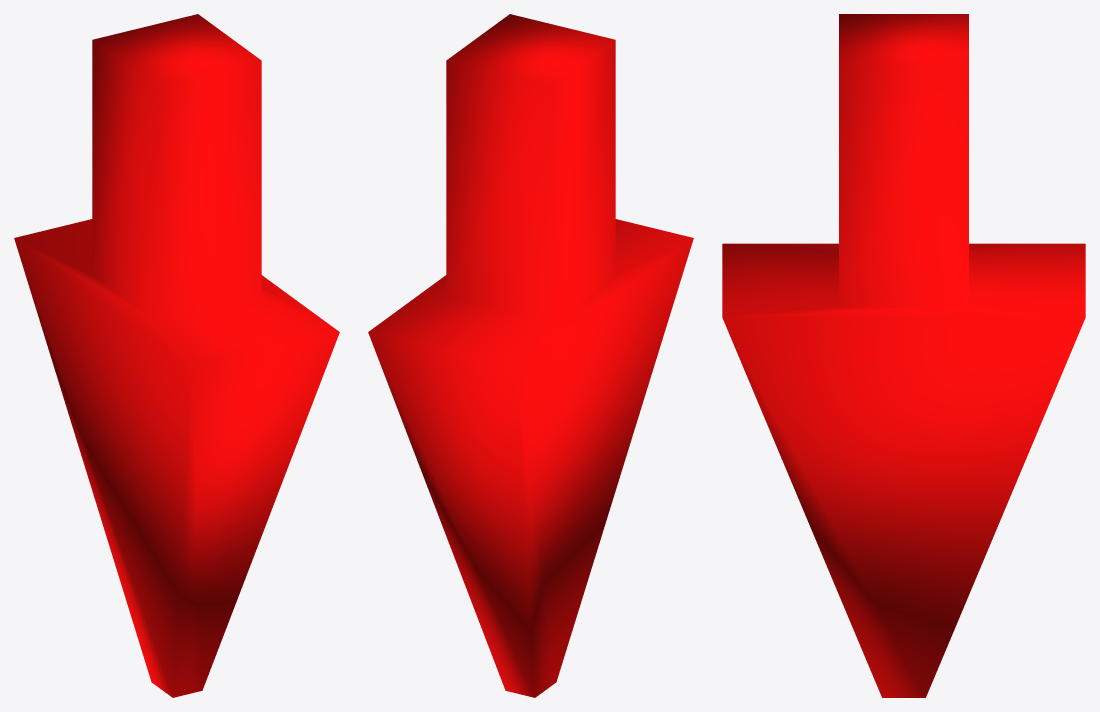
Rendered from fleche.dae.
3 renders of one model, left to right at view 1: azimuth 30°, elevation 25°; view 2: azimuth 150°, elevation 25°; view 3: azimuth 270°, elevation 25°, orthographic. The views are drawn at different scales.
Visible parts, largest first — view 1: Fleche; view 2: Fleche; view 3: Fleche.
Boxes of the visible parts, x1,y1,x2,y2 form: Fleche: (14,14,339,697); Fleche: (368,14,693,697); Fleche: (722,14,1085,697).
Size of the model in its own units: 0.672 by 1.4 by 2.76.
